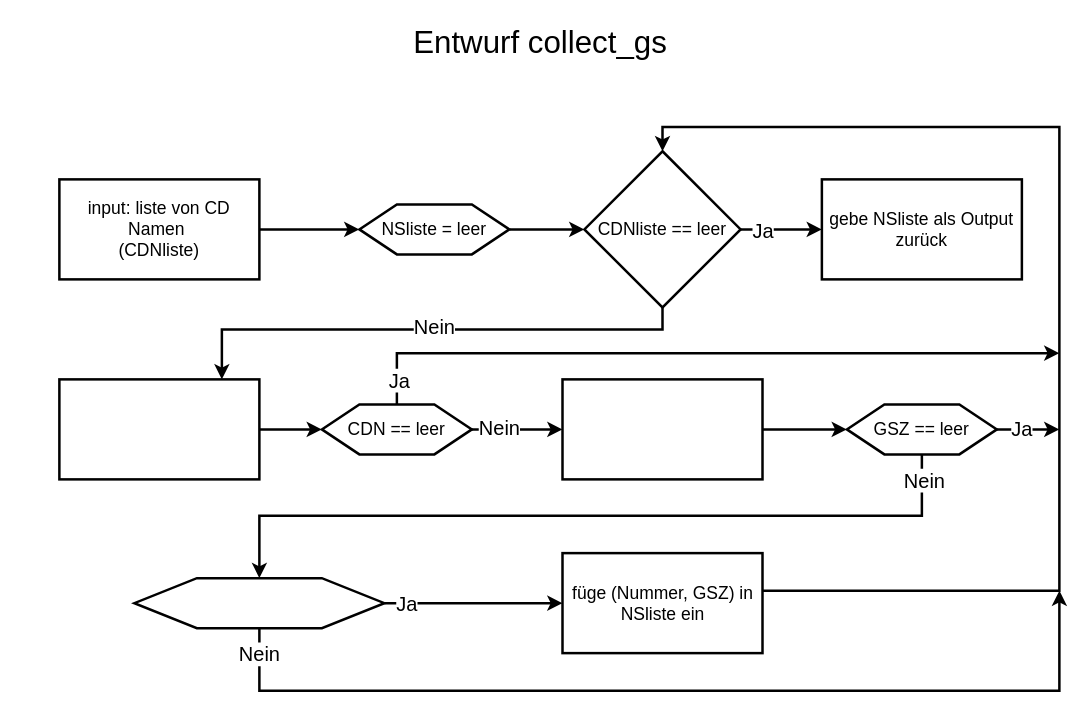
The diagram is 1091 pixels wide and 723 high, and some of its shapes have lost their labels. Here are the shapes that lost their labels. From the top down, the box of each, then its label:
(58, 378, 260, 480): Wähle CD Name aus CDNliste und lösche ihn daraus
(561, 378, 763, 480): Wähle Gesamtspielzeit und Nummer mittels CD Name aus Datenbank
(132, 576, 385, 629): GSZ > 88 && < 342
